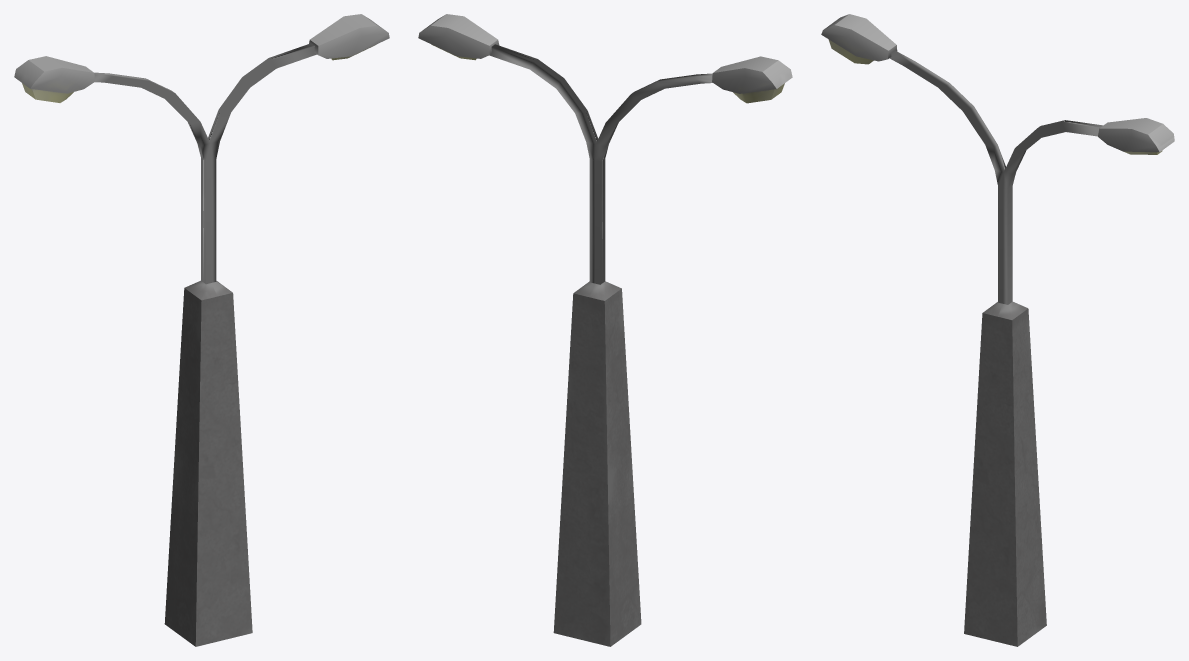
Rendered from lampa.fbx.
3 views of the same model, side by side, from view 1: azimuth 30°, elevation 25°; view 2: azimuth 150°, elevation 25°; view 3: azimuth 330°, elevation 25° (orthographic). The views are drawn at different scales.
Visible parts, largest first — view 1: pCube1, pCube2; view 2: pCube1, pCube2; view 3: pCube1, pCube2.
Boxes of the visible parts, box(x1,y1,x2,y2) form: pCube1: box(94, 43, 316, 646); pCube2: box(14, 14, 389, 102); pCube1: box(489, 44, 712, 646); pCube2: box(418, 14, 792, 103); pCube1: box(889, 50, 1102, 646); pCube2: box(821, 14, 1174, 154).
Size of the model in its own units: 34.13 by 54.94 by 5.1.
1 material, 1 textured.
